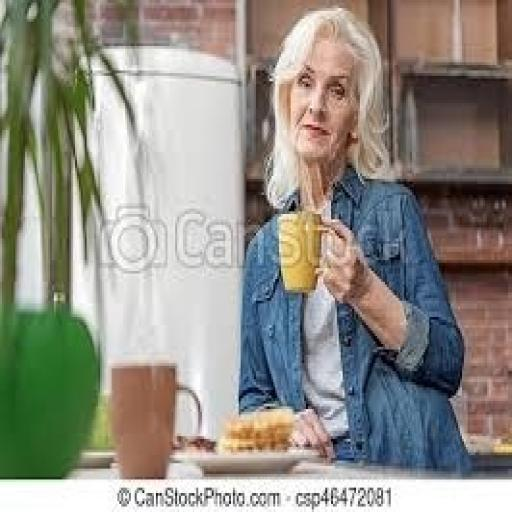drinking: (275, 208, 329, 292)
